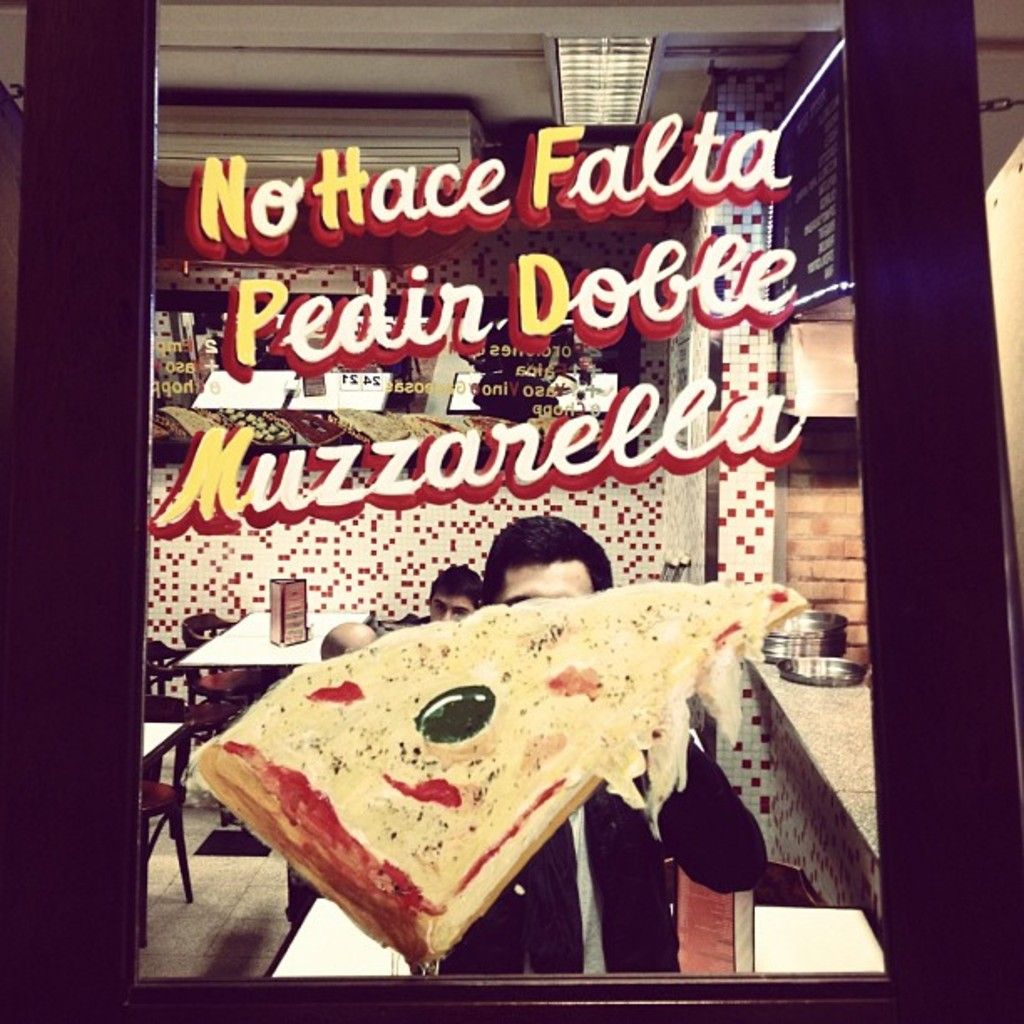Pizza: (202, 602, 806, 972)
